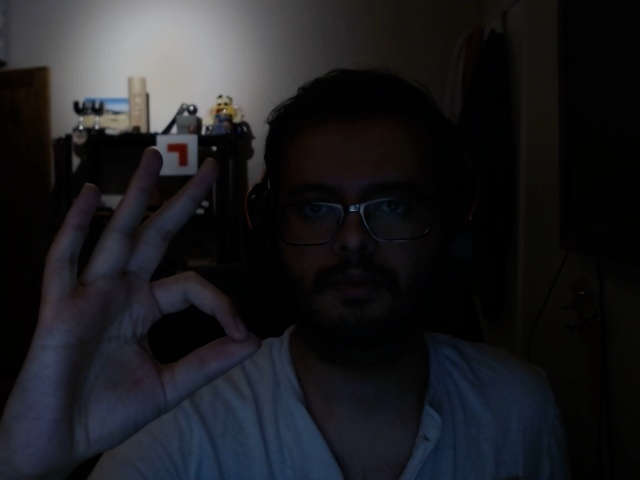Okay: (1, 146, 265, 480)
